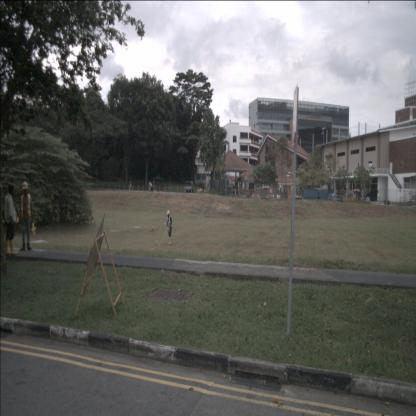vehicle-truck: (186, 181, 194, 193)
